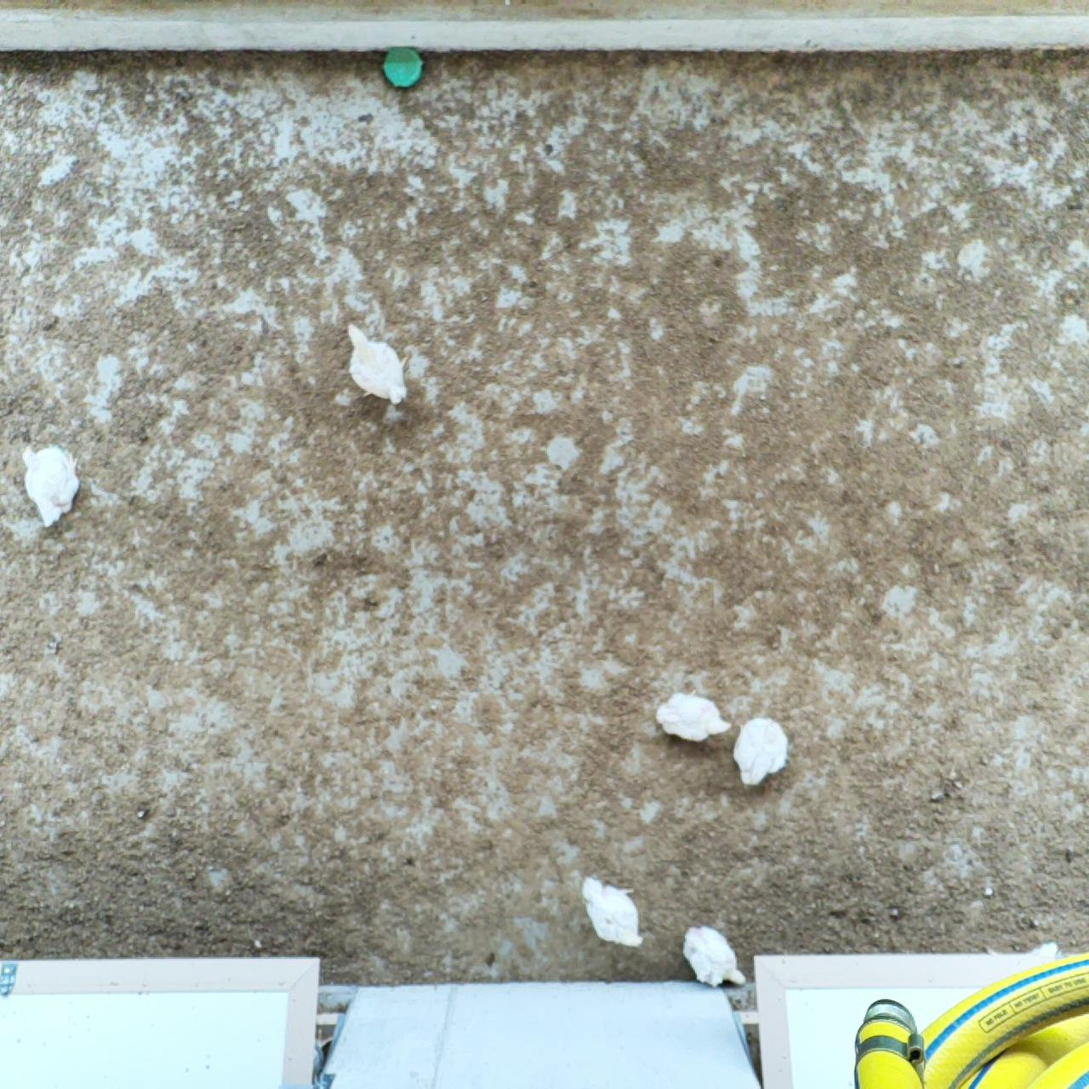chicken: (339, 317, 411, 406), (21, 444, 87, 530), (581, 873, 647, 954), (678, 919, 747, 994), (734, 713, 792, 794), (655, 691, 734, 748)
